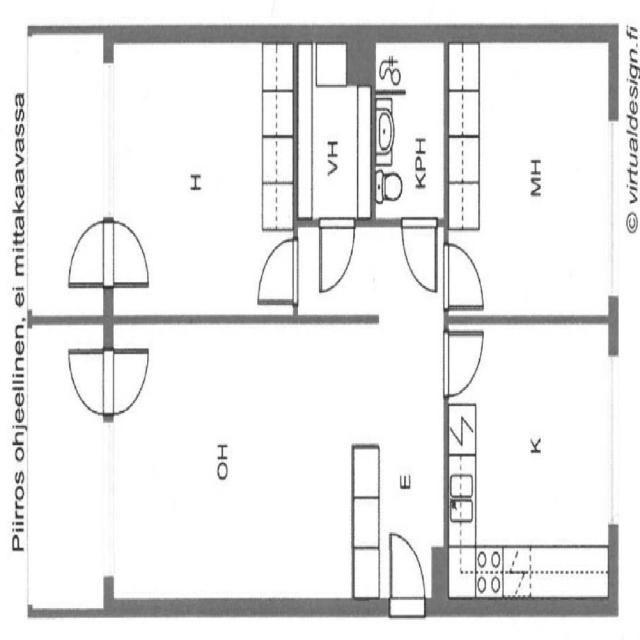door: (373, 34, 444, 225), (62, 337, 151, 420), (59, 209, 114, 295), (382, 526, 429, 622), (99, 211, 156, 288), (441, 317, 486, 400), (253, 232, 299, 309), (316, 215, 357, 301)
window: (94, 48, 124, 230), (599, 111, 622, 311), (600, 347, 621, 533), (98, 417, 119, 587)
zone: (111, 318, 374, 612), (106, 34, 293, 324), (446, 317, 615, 603), (448, 35, 615, 318), (28, 310, 108, 609), (298, 36, 372, 226), (440, 230, 492, 310), (398, 214, 443, 298), (317, 215, 356, 297)
